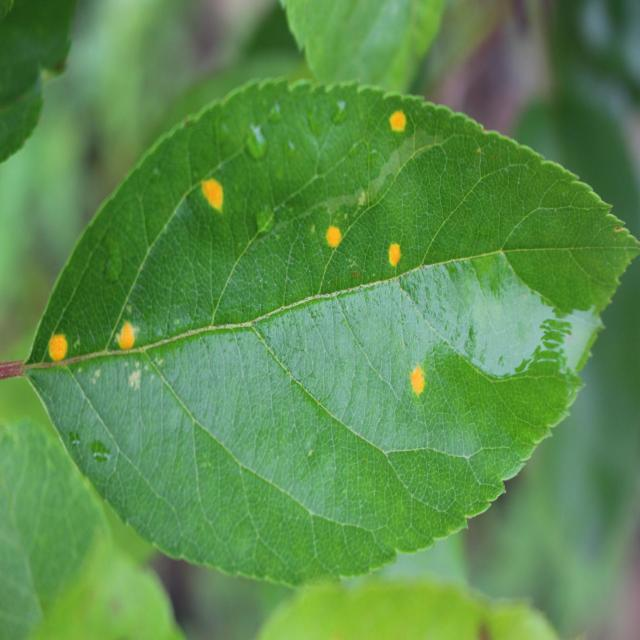Rust: (365, 102, 423, 143), (107, 308, 143, 370), (197, 158, 228, 224), (394, 358, 440, 402), (40, 327, 82, 374), (317, 221, 355, 256), (386, 238, 410, 278)
